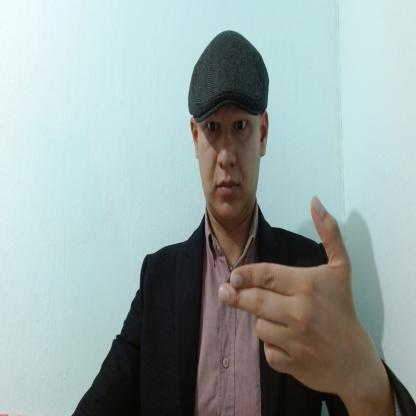H: (218, 194, 354, 394)
